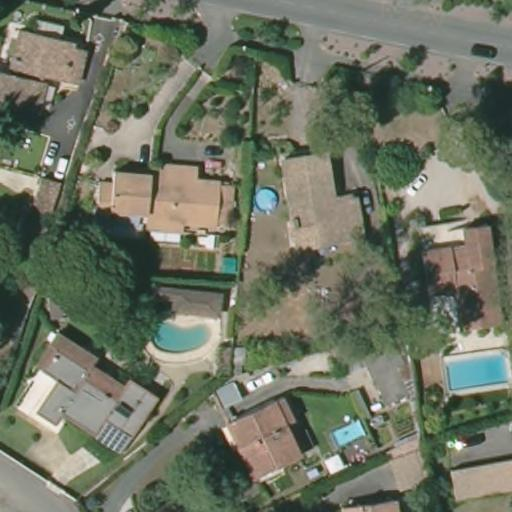pool: (439, 346, 511, 382), (147, 317, 215, 354), (325, 418, 365, 447), (254, 183, 280, 213)
